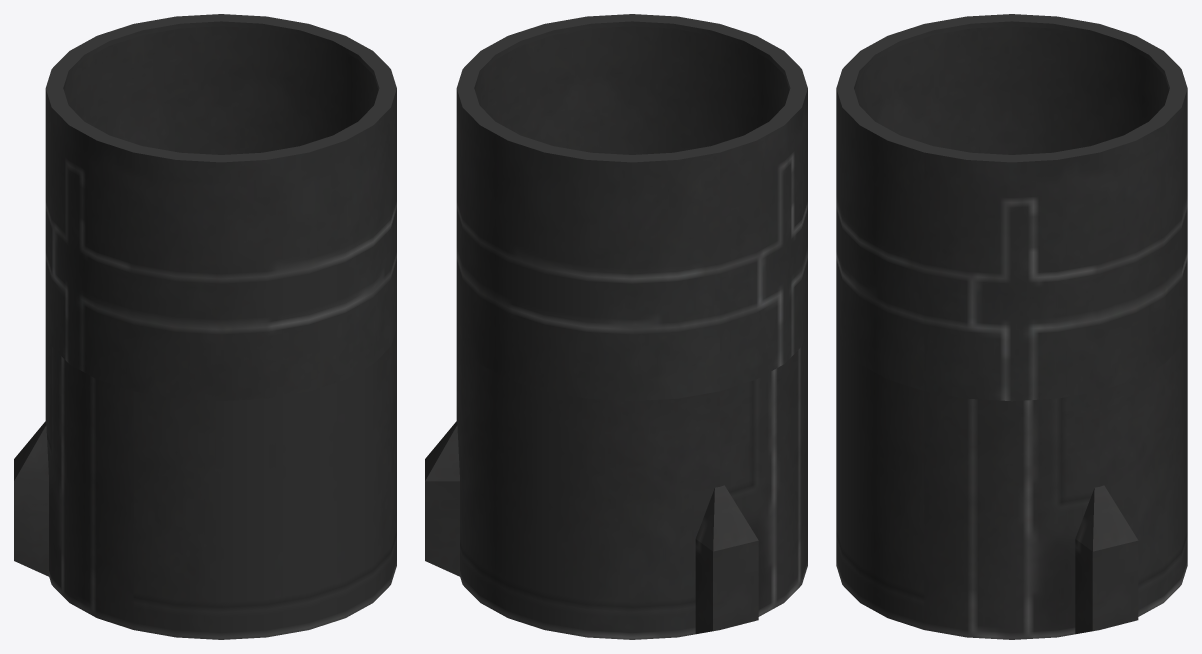
The model's file is fus2.obj.
3 views of the same model, side by side, from view 1: azimuth 30°, elevation 25°; view 2: azimuth 150°, elevation 25°; view 3: azimuth 270°, elevation 25° (orthographic).
Visible parts, largest first — view 1: 1; view 2: 1; view 3: 1.
Part boxes in pixels (<box>): 1: <box>14,14,396,639</box>; 1: <box>425,14,807,639</box>; 1: <box>836,14,1187,639</box>.
Bounding box in the file's own units: 2.74 × 3.75 × 2.5.
